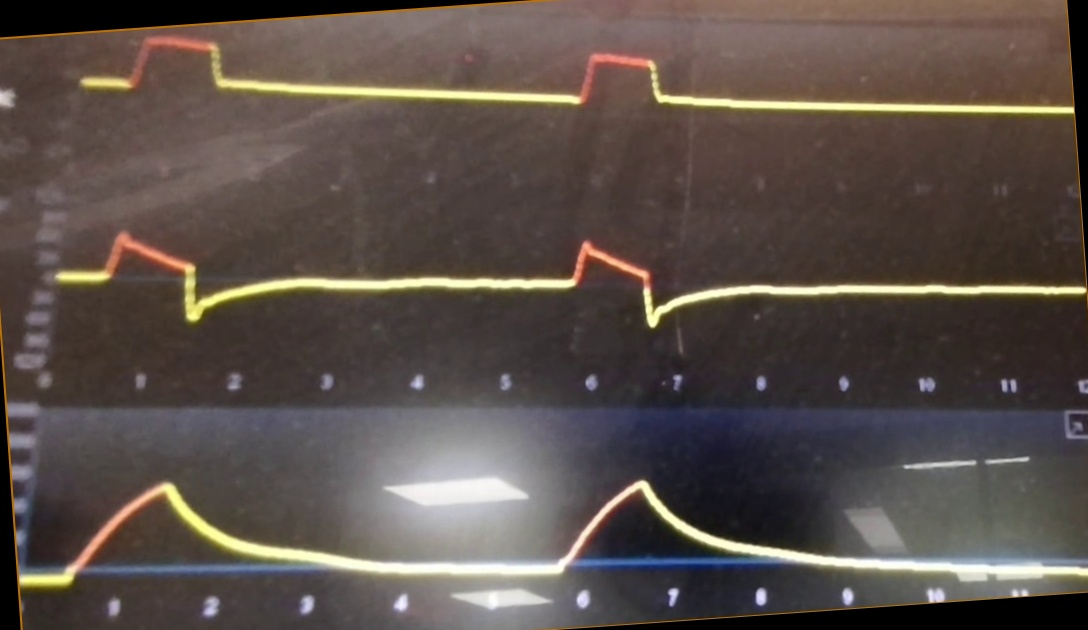Normal Flow: (57, 212, 1088, 349)
Normal Volume: (22, 462, 1088, 594)
